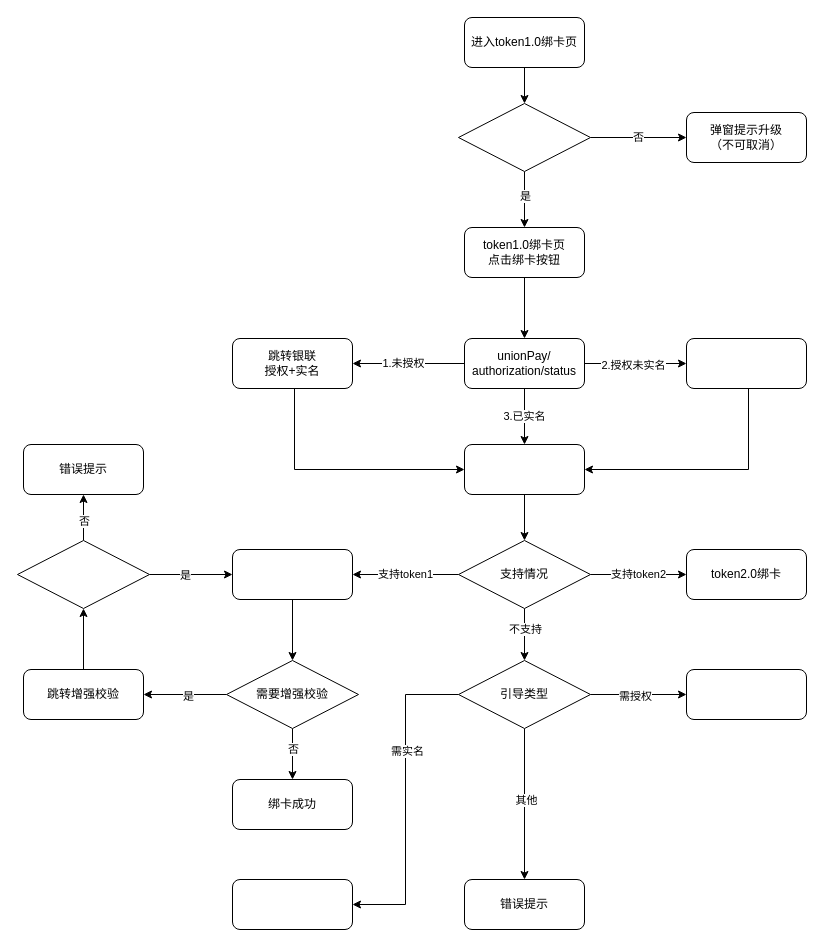
The diagram is 824 pixels wide and 947 high, and some of its shapes have lost their labels. Here are the shapes that lost their labels. From the top down, the box of each, then its label:
(458, 102, 590, 172): 银联控件版本 大于1.00.44
(686, 338, 806, 388): 跳转银联 实名认证
(464, 444, 584, 494): queryPan
(16, 540, 150, 608): 校验通过
(232, 548, 352, 600): token1.0绑卡
(686, 668, 806, 720): 跳转授权
(232, 878, 352, 930): 跳转实名
